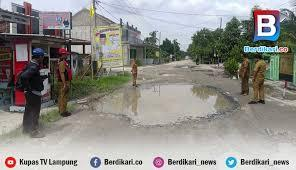Pothole: (87, 78, 247, 125), (176, 61, 225, 76), (152, 69, 182, 81)
